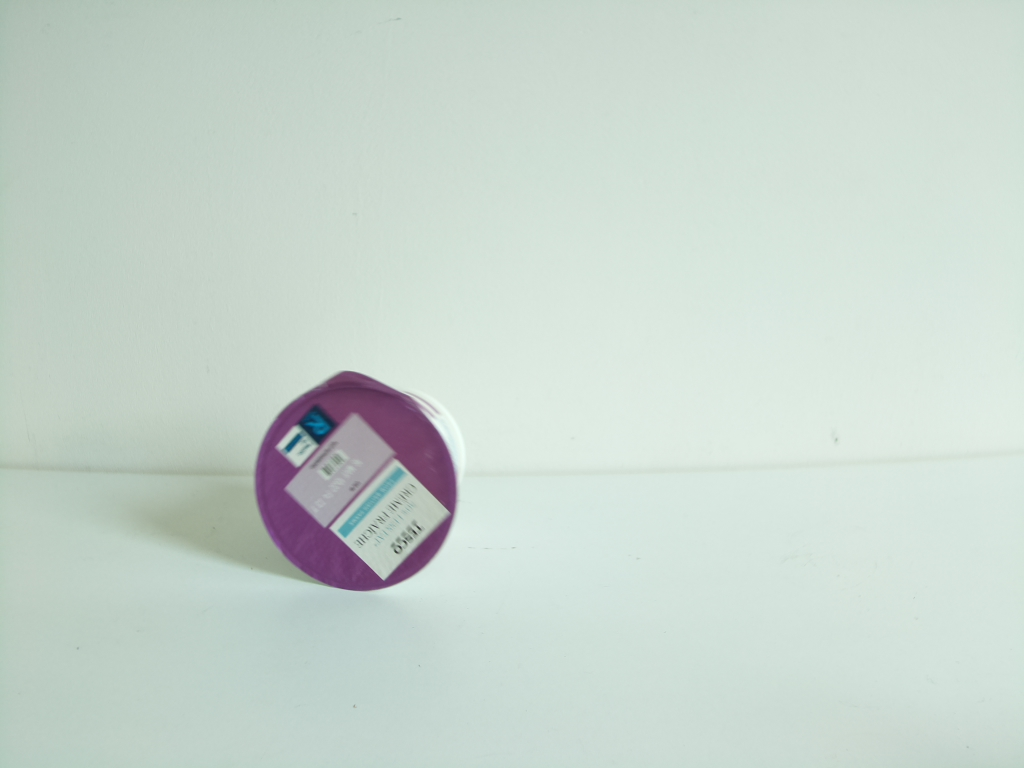cream: (252, 363, 466, 596)
